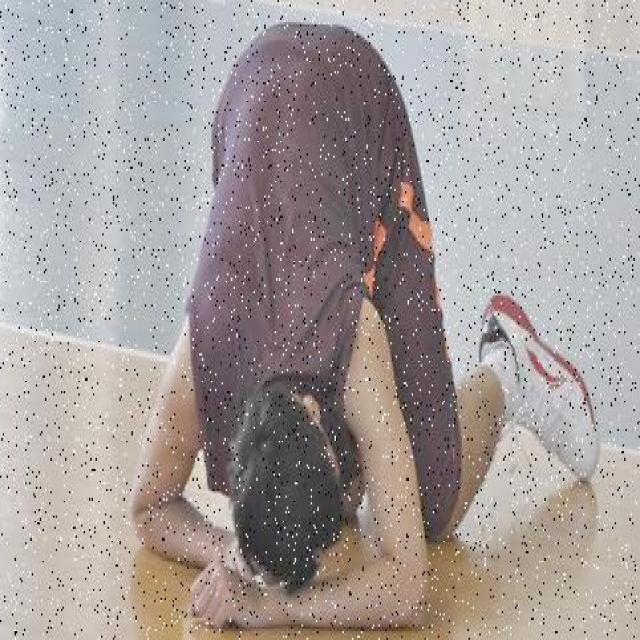fall: (129, 22, 486, 611)
